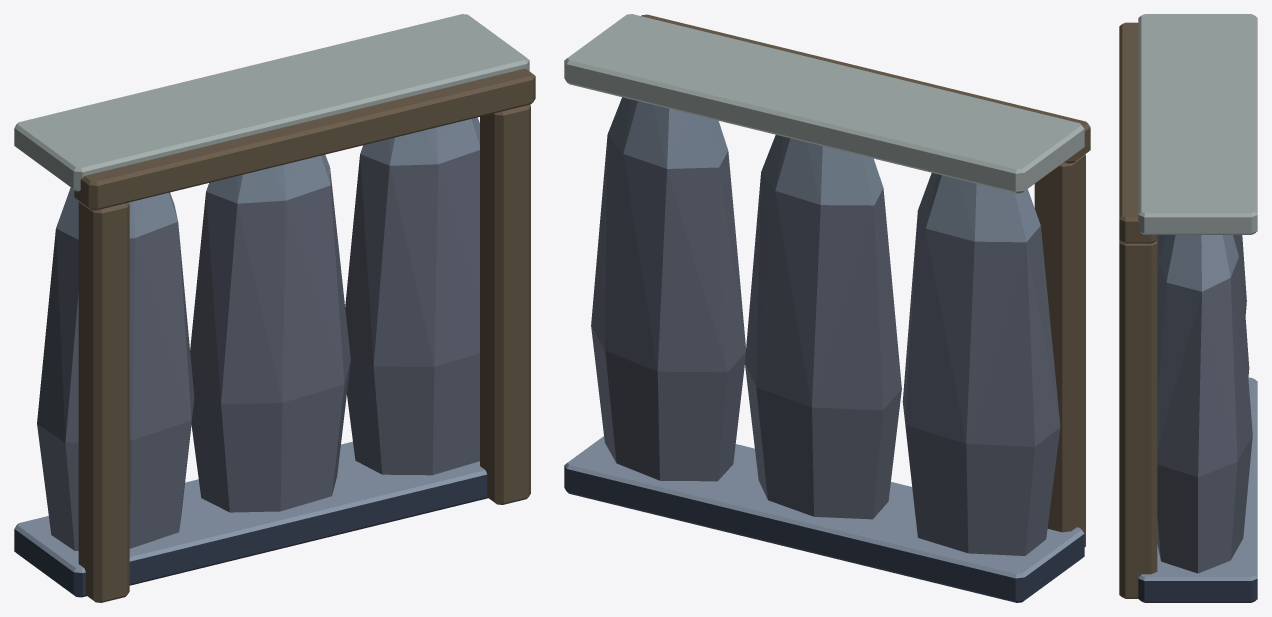
The model's file is wall-tall.glb.
The picture shows the model from 3 angles, left to right: view 1: azimuth 30°, elevation 25°; view 2: azimuth 150°, elevation 25°; view 3: azimuth 270°, elevation 25°; orthographic projection. The views are drawn at different scales.
Visible parts, largest first — view 1: wall-tall__body; view 2: wall-tall__body; view 3: wall-tall__body.
Boxes of the visible parts, <box> form: wall-tall__body: <box>14,14,535,602</box>; wall-tall__body: <box>564,14,1090,602</box>; wall-tall__body: <box>1119,14,1257,602</box>.
Size of the model in its own units: 2.01 by 1.8 by 0.58.
